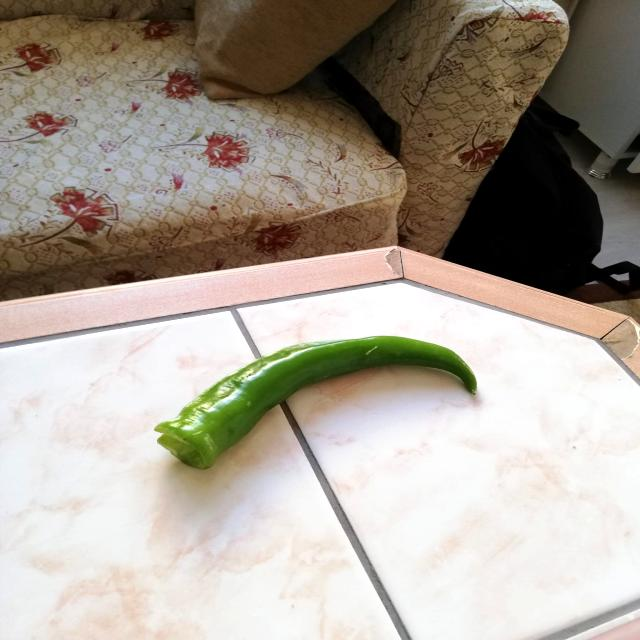green pepper: (151, 332, 482, 472)
